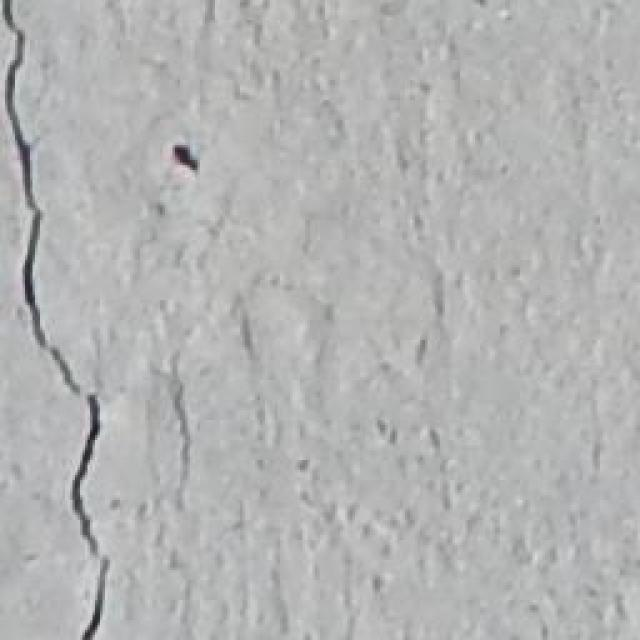concrete-crack: (0, 0, 115, 640)
